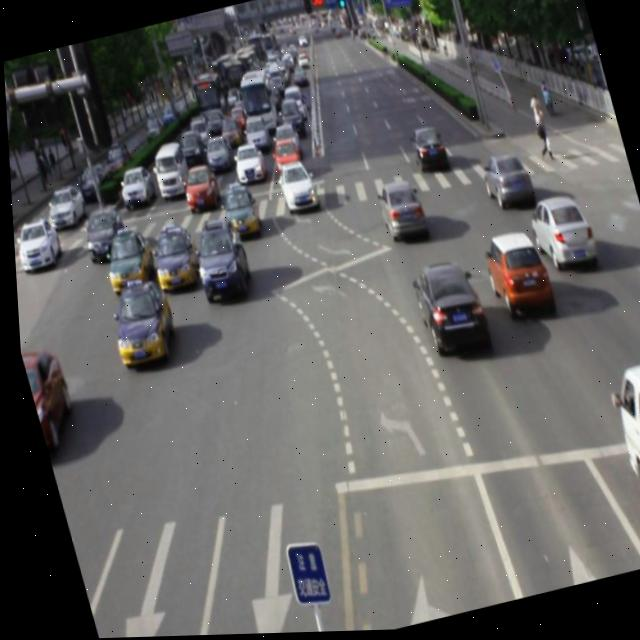car: (403, 258, 489, 363), (97, 274, 180, 375), (475, 227, 549, 321), (521, 192, 596, 277), (182, 213, 250, 304), (94, 224, 157, 302), (141, 225, 201, 297), (372, 176, 429, 249), (476, 150, 532, 213), (271, 160, 315, 215), (217, 184, 260, 239)
truck: (602, 358, 640, 568)
